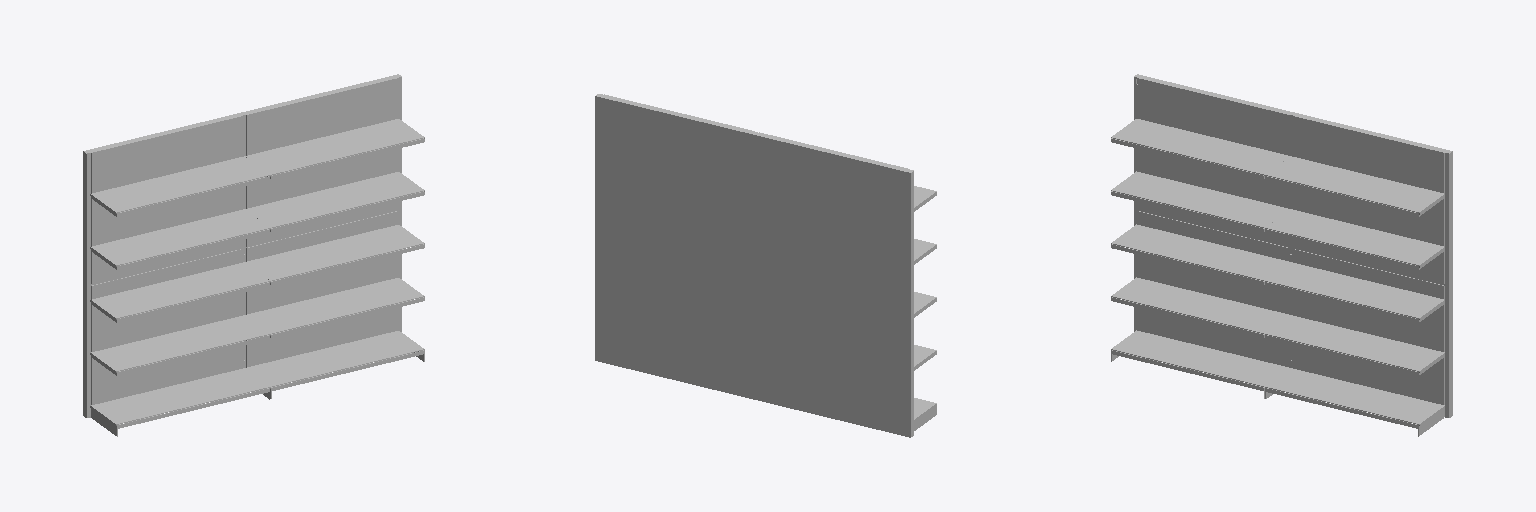
File: polkagh.obj
3 renders of one model, left to right at view 1: azimuth 30°, elevation 25°; view 2: azimuth 150°, elevation 25°; view 3: azimuth 330°, elevation 25°, orthographic.
Parts seen in each view (by area): view 1: Cube.029_Cube.119, Plane.030, Plane.038, Plane.042, Plane.026, Plane.034, Plane.028, Plane.032, Plane.036, Plane.044, Plane.040, Plane.041 (+9 smaller); view 2: Cube.029_Cube.119; view 3: Cube.029_Cube.119, Plane.032, Plane.028, Plane.040, Plane.044, Plane.036, Plane.026, Plane.030, Plane.034, Plane.042, Plane.038, Plane.043 (+9 smaller).
Boxes of the visible parts, x1=… form: Cube.029_Cube.119: x1=83, y1=74, x2=401, y2=417; Plane.030: x1=90, y1=209, x2=269, y2=266; Plane.038: x1=90, y1=315, x2=269, y2=372; Plane.042: x1=90, y1=368, x2=269, y2=425; Plane.026: x1=90, y1=156, x2=269, y2=213; Plane.034: x1=90, y1=262, x2=269, y2=319; Plane.028: x1=245, y1=119, x2=424, y2=176; Plane.032: x1=245, y1=172, x2=424, y2=229; Plane.036: x1=245, y1=225, x2=424, y2=282; Plane.044: x1=245, y1=331, x2=424, y2=388; Plane.040: x1=245, y1=278, x2=424, y2=335; Plane.041: x1=91, y1=388, x2=269, y2=436; Cube.029_Cube.119: x1=595, y1=94, x2=913, y2=437; Cube.029_Cube.119: x1=1134, y1=74, x2=1452, y2=417; Plane.032: x1=1265, y1=209, x2=1444, y2=267; Plane.028: x1=1265, y1=156, x2=1444, y2=214; Plane.040: x1=1265, y1=315, x2=1444, y2=372; Plane.044: x1=1265, y1=368, x2=1444, y2=425; Plane.036: x1=1265, y1=262, x2=1444, y2=319; Plane.026: x1=1111, y1=119, x2=1289, y2=175; Plane.030: x1=1111, y1=171, x2=1289, y2=227; Plane.034: x1=1111, y1=224, x2=1289, y2=280; Plane.042: x1=1111, y1=330, x2=1289, y2=386; Plane.038: x1=1111, y1=277, x2=1289, y2=333; Plane.043: x1=1265, y1=388, x2=1444, y2=436.
Size of the model in its own units: 2.62 by 2.1 by 0.4309.